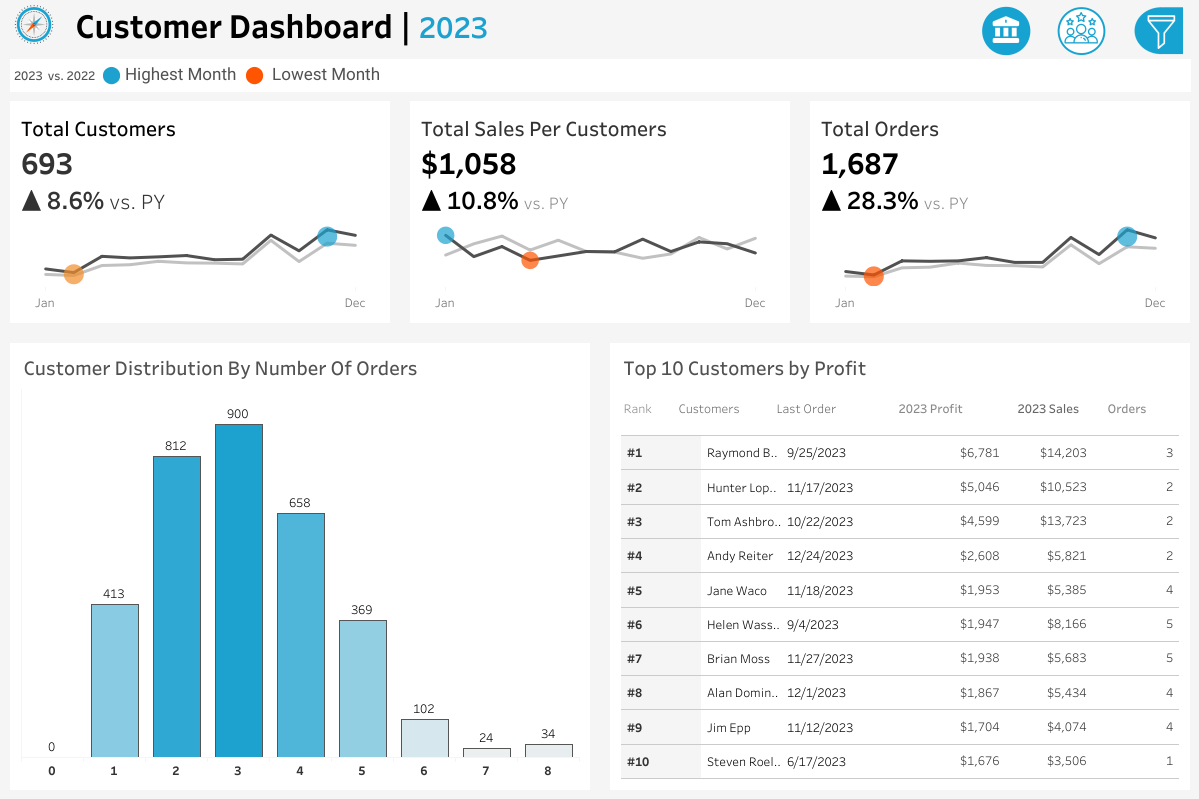

What the dashboard file says about the page in this screenshot:
{"tool":"tableau","page":{"name":"Customer Dashboard ","canvas":[1200,800],"ordinal":0},"visuals":[{"type":"image","param":"Image/Icon - Logo.png","box":[0,0,69,49]},{"type":"text","box":[69,0,734,49]},{"type":"dashboard-object","box":[968,2,76,58]},{"type":"dashboard-object","box":[1044,2,76,58]},{"type":"dashboard-object","box":[1120,2,76,58]},{"type":"blank","box":[976,10,213,43]},{"type":"worksheet","title":"Legend KPI","mark":"Automatic","box":[0,49,1200,52]},{"type":"text","box":[976,53,213,40]},{"type":"parameter","param":"[Parameters].[Parameter 1]","box":[976,93,213,52]},{"type":"worksheet","title":"KPI Customers","mark":"Automatic","rows":["Calculation_189432727813496862"],"cols":["Order Date"],"box":[0,101,400,232]},{"type":"worksheet","title":"KPI Sales Per Customers ","mark":"Automatic","rows":["Calculation_189432727813775391"],"cols":["Order Date"],"box":[400,101,400,232]},{"type":"worksheet","title":"KPI Orders","mark":"Automatic","rows":["Calculation_189432659637755971"],"cols":["Order Date"],"box":[800,101,400,232]},{"type":"text","box":[976,145,213,33]},{"type":"blank","box":[976,178,213,22]},{"type":"filter","title":"KPI Customers","param":"[federated.0ug858x0bnghr41ccmnlg0o0680l].[none:Category:nk]","box":[976,200,213,61]},{"type":"filter","title":"KPI Customers","param":"[federated.0ug858x0bnghr41ccmnlg0o0680l].[none:Sub-Category:nk]","box":[976,261,213,61]},{"type":"text","box":[976,322,213,33]},{"type":"text","box":[17,350,566,40]},{"type":"text","box":[617,350,566,40]},{"type":"filter","title":"KPI Customers","param":"[federated.0ug858x0bnghr41ccmnlg0o0680l].[none:Region:nk]","box":[976,355,213,61]},{"type":"worksheet","title":"Customer Distribution","mark":"Bar","rows":["Calculation_189432727811100696"],"cols":["Calculation_189432659641937988"],"box":[17,390,566,393]},{"type":"text","box":[617,390,55,46]},{"type":"text","box":[672,390,100.7,46]},{"type":"text","box":[772.7,390,122,46]},{"type":"text","box":[894.7,390,119,46]},{"type":"text","box":[1013.7,390,88.7,46]},{"type":"text","box":[1102.3,390,80.7,46]},{"type":"filter","title":"KPI Customers","param":"[federated.0ug858x0bnghr41ccmnlg0o0680l].[none:State:nk]","box":[976,416,213,61]},{"type":"worksheet","title":"Top Customers","mark":"Automatic","rows":["Calculation_189432659646378055","Customer Name","Order Date"],"box":[617,436,566,347]},{"type":"filter","title":"KPI Customers","param":"[federated.0ug858x0bnghr41ccmnlg0o0680l].[none:City:nk]","box":[976,477,213,61]},{"type":"blank","box":[976,538,213,252]}]}

Visuals, with their boxes in screenshot pixels (x1, y1, x2, y2), scaled from the page's 1200x800 canvas onto the 1199x799 screenshot:
image: <region>0, 0, 69, 49</region>
text: <region>69, 0, 802, 49</region>
dashboard-object: <region>967, 2, 1043, 60</region>
dashboard-object: <region>1043, 2, 1119, 60</region>
dashboard-object: <region>1119, 2, 1195, 60</region>
blank: <region>975, 10, 1188, 53</region>
"Legend KPI" worksheet: <region>0, 49, 1198, 101</region>
text: <region>975, 53, 1188, 93</region>
parameter: <region>975, 93, 1188, 145</region>
"KPI Customers" worksheet: <region>0, 101, 400, 333</region>
"KPI Sales Per Customers " worksheet: <region>400, 101, 799, 333</region>
"KPI Orders" worksheet: <region>799, 101, 1198, 333</region>
text: <region>975, 145, 1188, 178</region>
blank: <region>975, 178, 1188, 200</region>
"KPI Customers" filter: <region>975, 200, 1188, 261</region>
"KPI Customers" filter: <region>975, 261, 1188, 322</region>
text: <region>975, 322, 1188, 355</region>
text: <region>17, 350, 583, 390</region>
text: <region>616, 350, 1182, 390</region>
"KPI Customers" filter: <region>975, 355, 1188, 415</region>
"Customer Distribution" worksheet (Bar marks): <region>17, 390, 583, 782</region>
text: <region>616, 390, 671, 435</region>
text: <region>671, 390, 772, 435</region>
text: <region>772, 390, 894, 435</region>
text: <region>894, 390, 1013, 435</region>
text: <region>1013, 390, 1101, 435</region>
text: <region>1101, 390, 1182, 435</region>
"KPI Customers" filter: <region>975, 415, 1188, 476</region>
"Top Customers" worksheet: <region>616, 435, 1182, 782</region>
"KPI Customers" filter: <region>975, 476, 1188, 537</region>
blank: <region>975, 537, 1188, 789</region>
